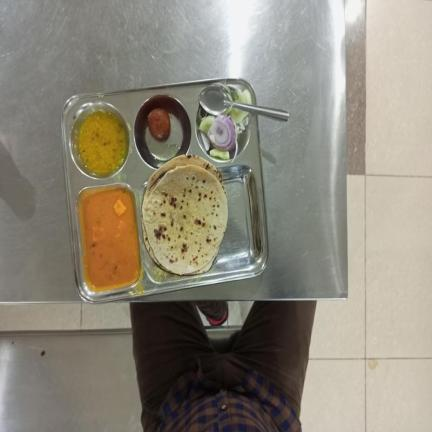Chana Dal: (75, 110, 127, 175)
Gulab Jamun: (146, 107, 171, 140)
Paneer: (80, 188, 140, 288)
Plate: (60, 77, 270, 304)
Roti: (141, 154, 229, 276)
Salad: (199, 90, 252, 159)
